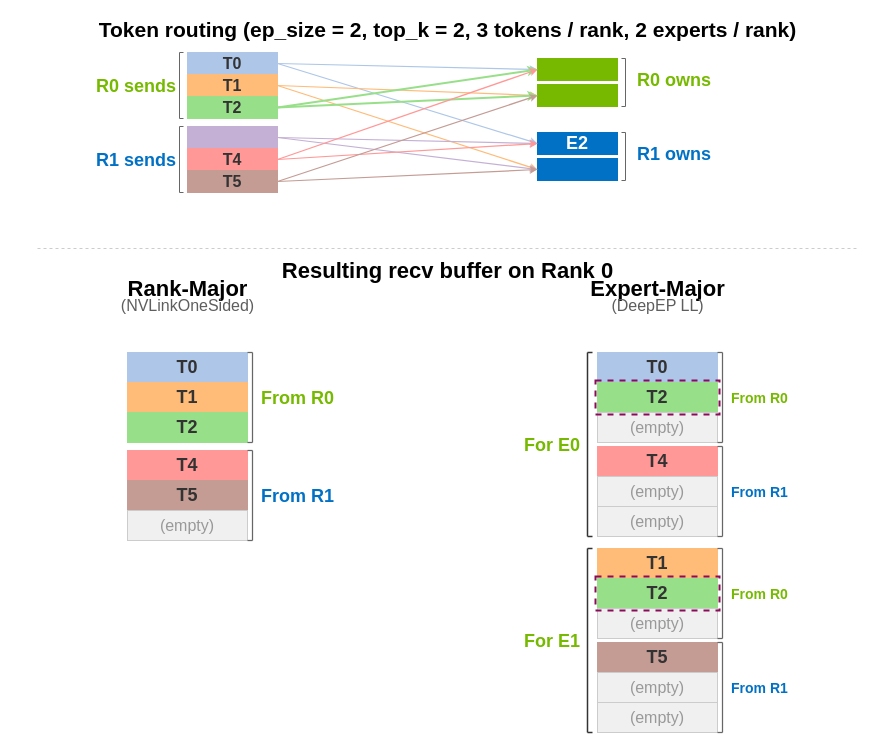
The diagram is 894 pixels wide and 752 high, and some of its shapes have lost their labels. The shapes that lost their labels are listed below. From the top down, each one's centre as x and y in pixels, then its label:
(577,69): E0
(577,95): E1
(232,137): T3
(577,169): E3
